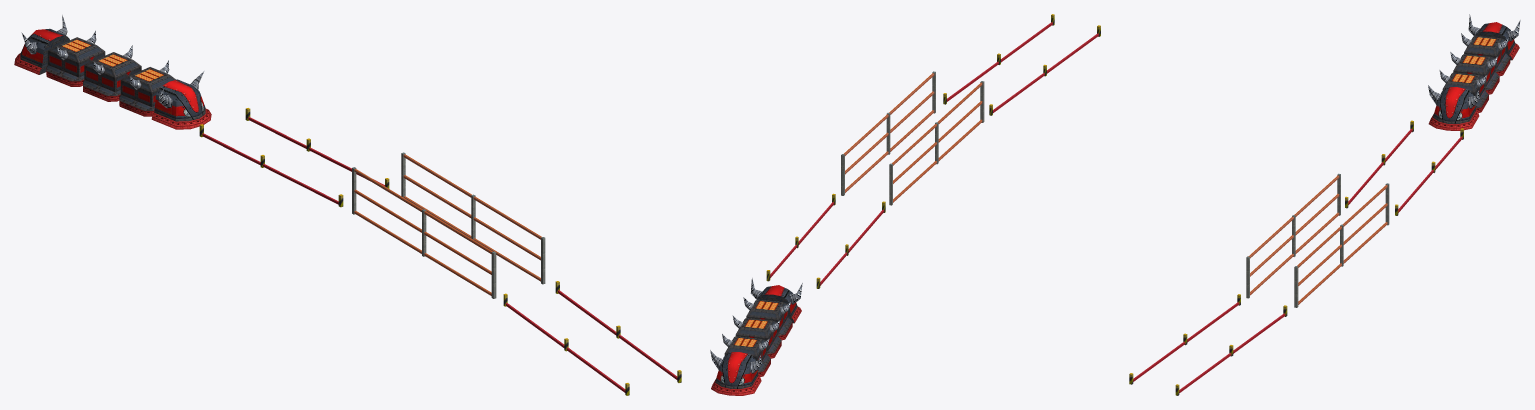
Rendered from Bullet Station 30.fbx.
3 renders of one model, left to right at view 1: azimuth 30°, elevation 25°; view 2: azimuth 150°, elevation 25°; view 3: azimuth 330°, elevation 25°, orthographic. The views are drawn at different scales.
Visible parts, largest first — view 1: STG08_ON_14; view 2: STG08_ON_14; view 3: STG08_ON_14.
Part boxes in pixels (x1,y1,x2,y2): STG08_ON_14: (14,15,681,395); STG08_ON_14: (710,14,1100,395); STG08_ON_14: (1129,14,1520,395).
Bounding box in the file's own units: 30183 × 9684 × 161876.
